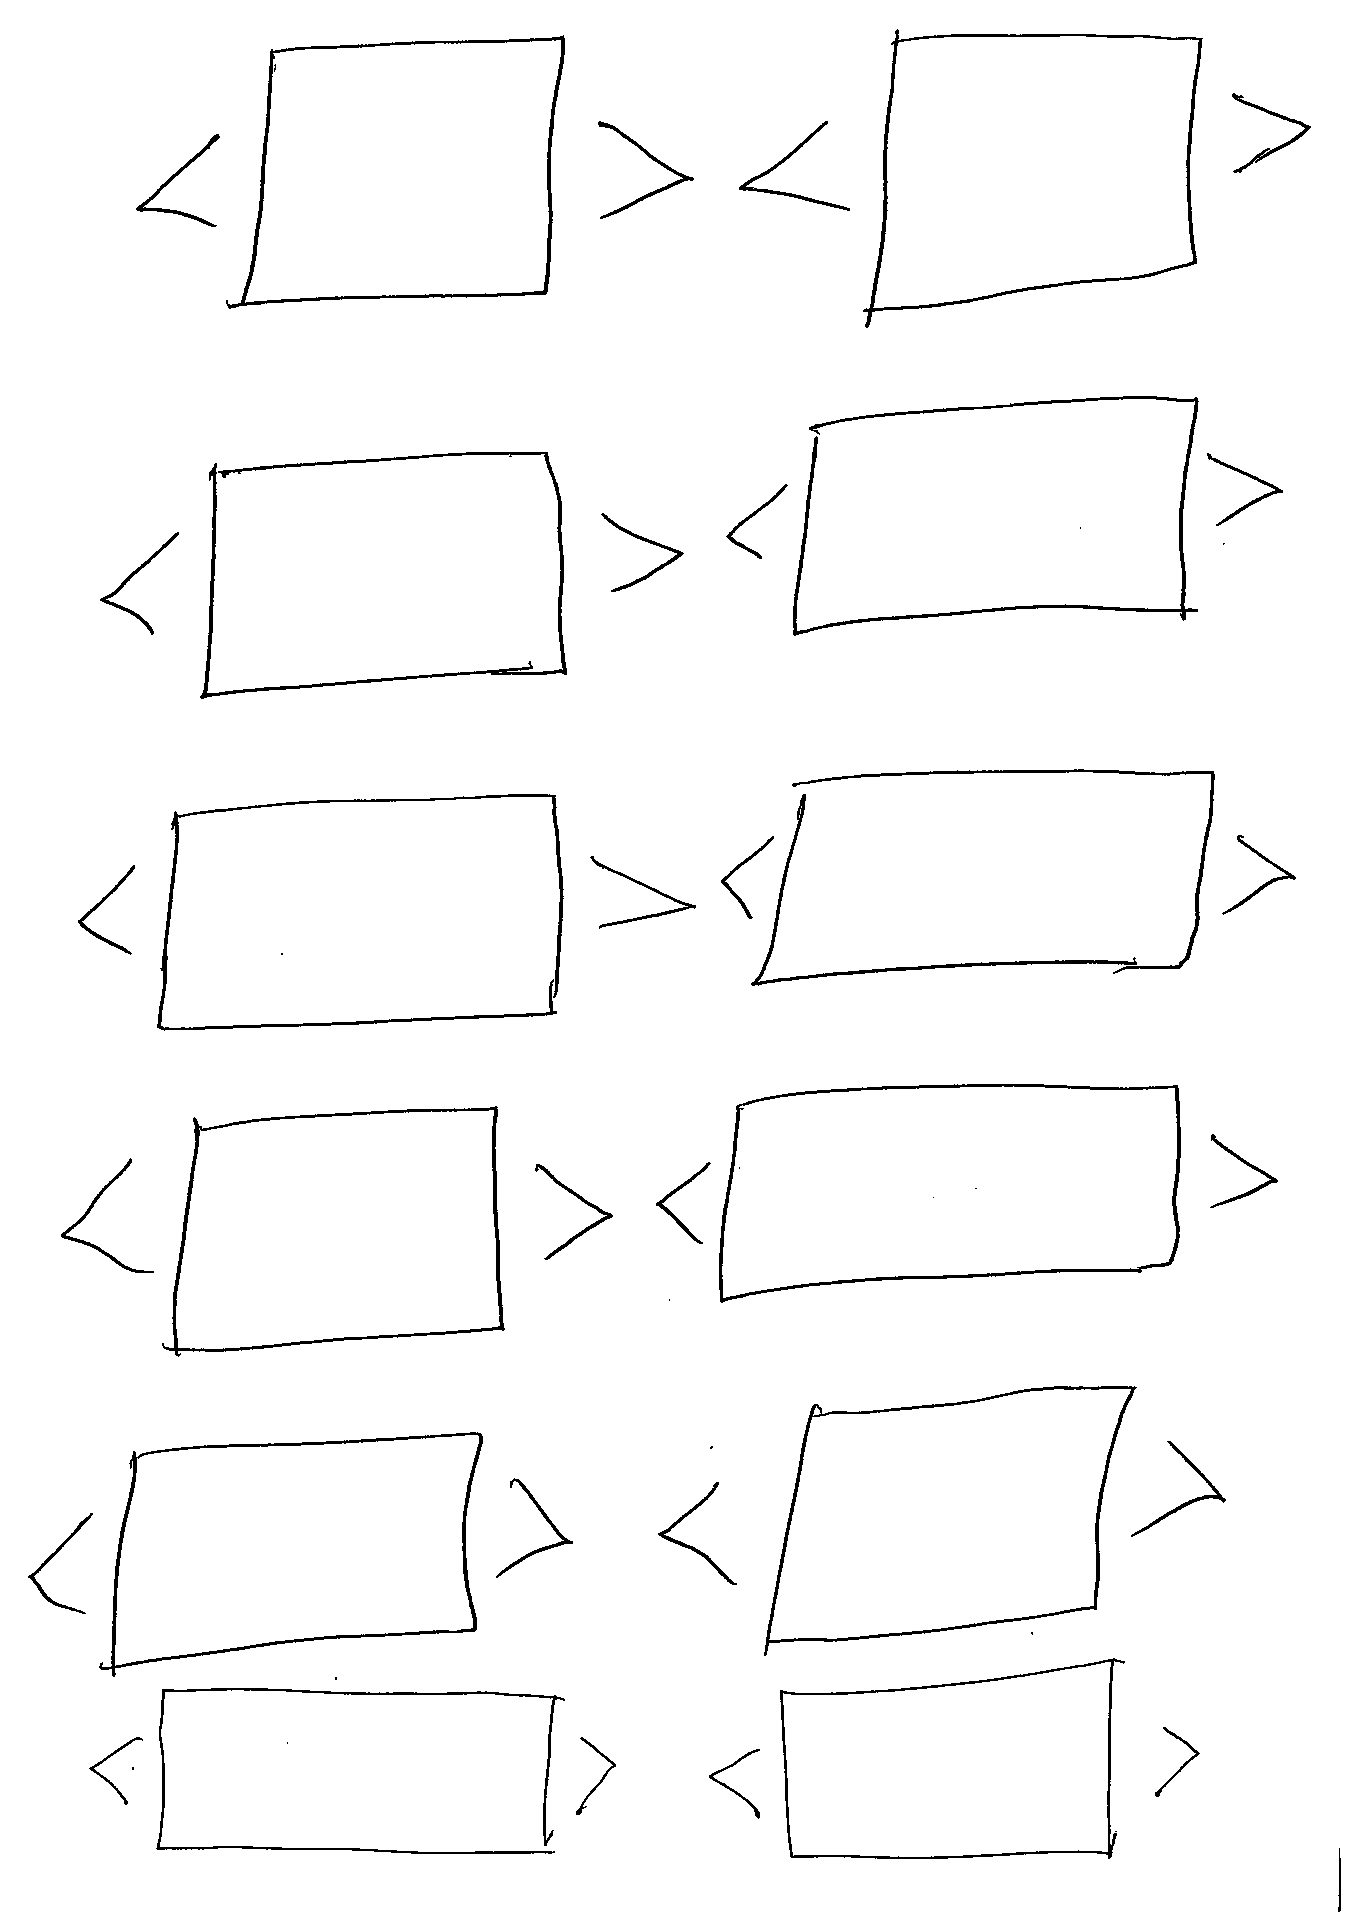Carousel: (733, 27, 1313, 319), (135, 33, 695, 309), (74, 788, 699, 1034), (655, 1382, 1230, 1647), (95, 447, 684, 702), (652, 1078, 1282, 1307), (58, 1103, 614, 1357), (723, 392, 1289, 634), (24, 1428, 572, 1671), (721, 766, 1297, 991), (702, 1656, 1203, 1864), (87, 1686, 619, 1859)
